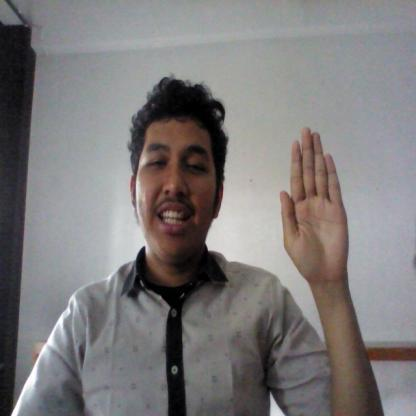Halo: (274, 116, 360, 300)
